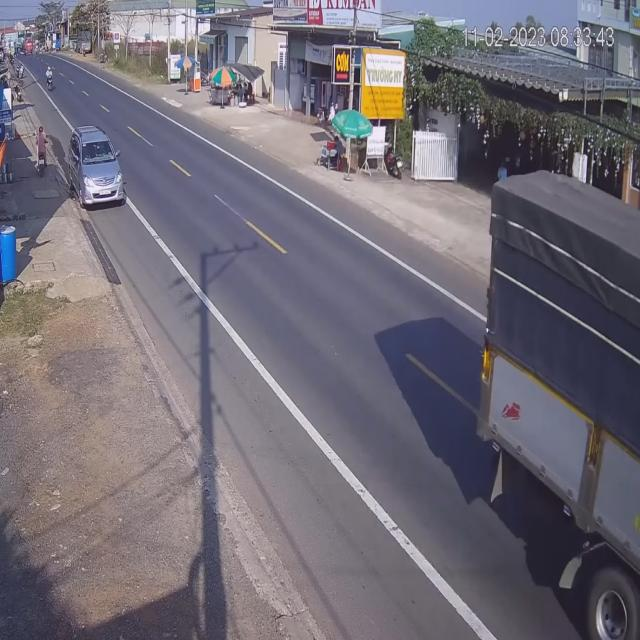car: (68, 126, 125, 209)
motorbike: (34, 128, 48, 174), (44, 64, 54, 90)
truck: (476, 167, 636, 640)
